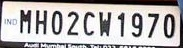character: (19, 8, 32, 34), (66, 10, 79, 36), (98, 11, 111, 37), (34, 9, 47, 34), (146, 12, 159, 37), (130, 12, 142, 37), (83, 10, 94, 36), (163, 12, 174, 38), (51, 10, 62, 34), (116, 11, 126, 37)
